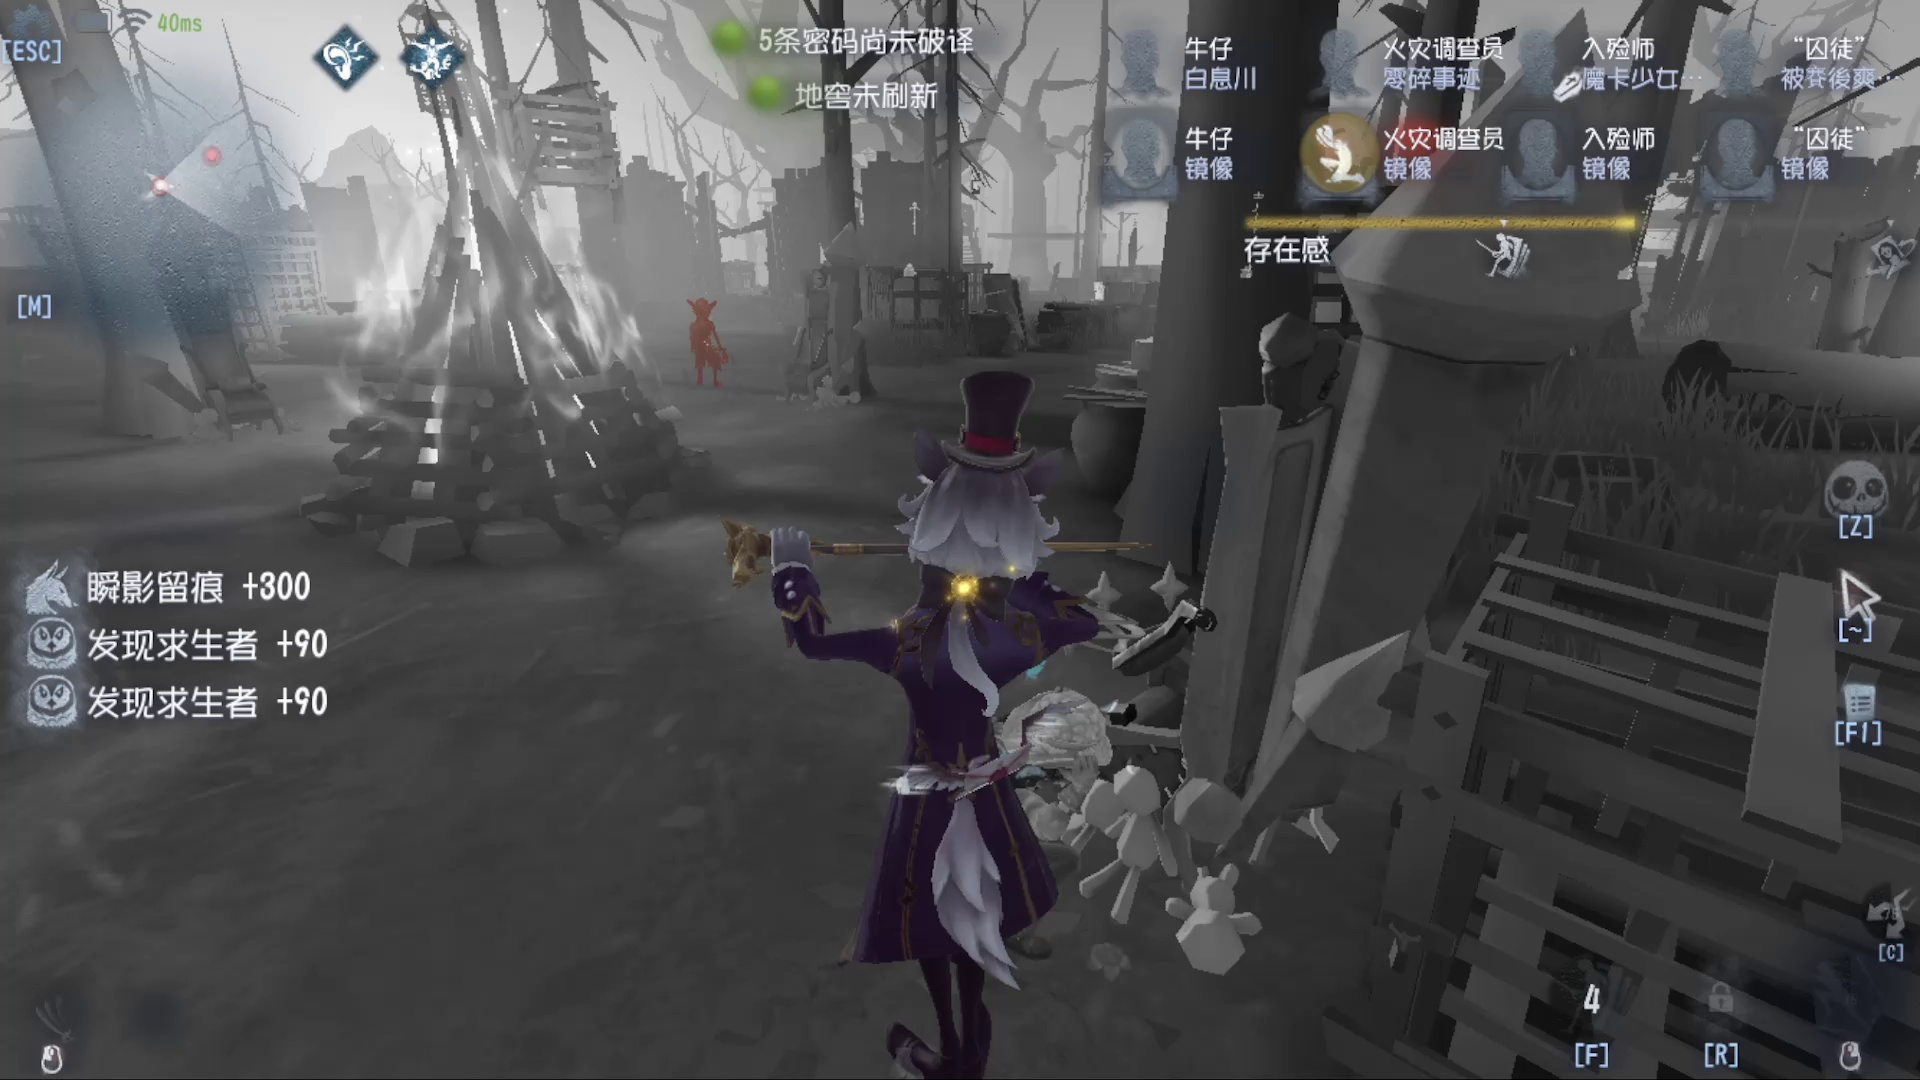求生者: (674, 284, 728, 397)
狂欢之椅: (140, 218, 295, 451)
